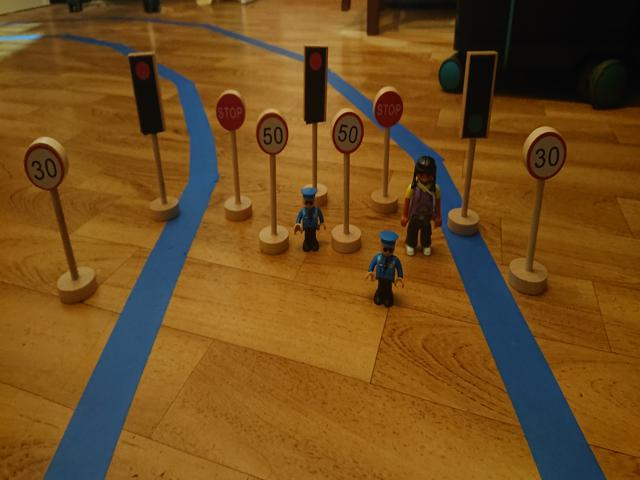30 speed sign: (22, 143, 67, 191), (528, 128, 566, 180)
50 speed sign: (254, 113, 288, 155), (332, 111, 364, 154)
green light: (468, 56, 489, 139)
person: (396, 154, 444, 260), (364, 231, 406, 311), (292, 185, 327, 255)
red light: (132, 55, 159, 130), (305, 47, 325, 118)
stop sign: (372, 89, 405, 128), (214, 92, 246, 132)
